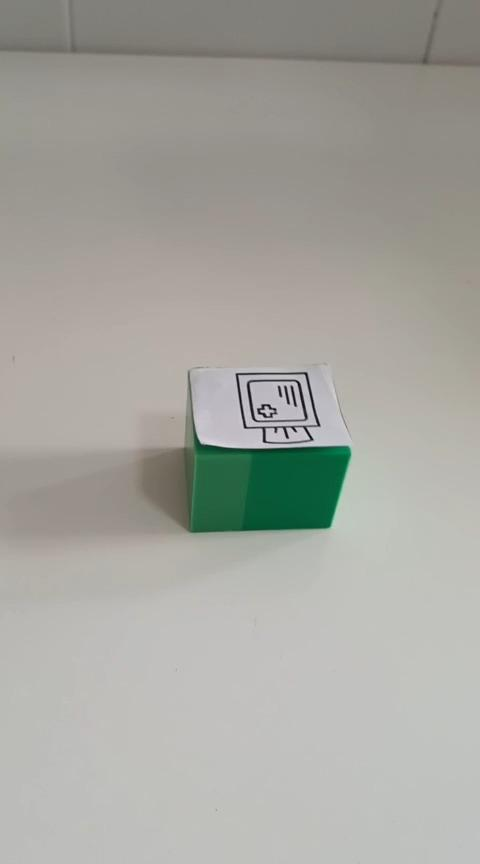Gauze: (183, 361, 353, 532)
